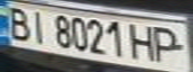0: (66, 15, 87, 52)
1: (103, 18, 130, 58)
2: (84, 17, 109, 55)
8: (48, 12, 72, 50)
B: (3, 3, 33, 41)
H: (127, 21, 163, 62)
I: (24, 8, 51, 44)
P: (148, 25, 190, 65)
